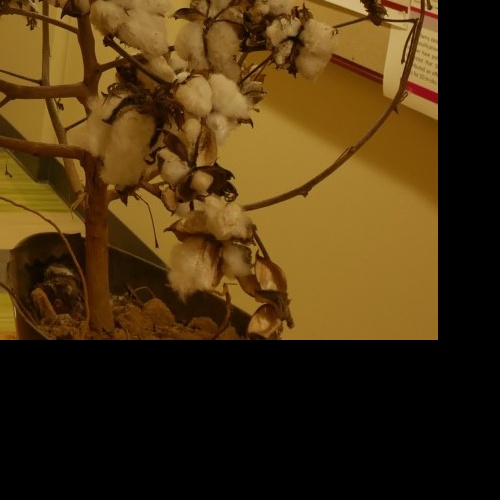mature_boll: (72, 5, 325, 335)
